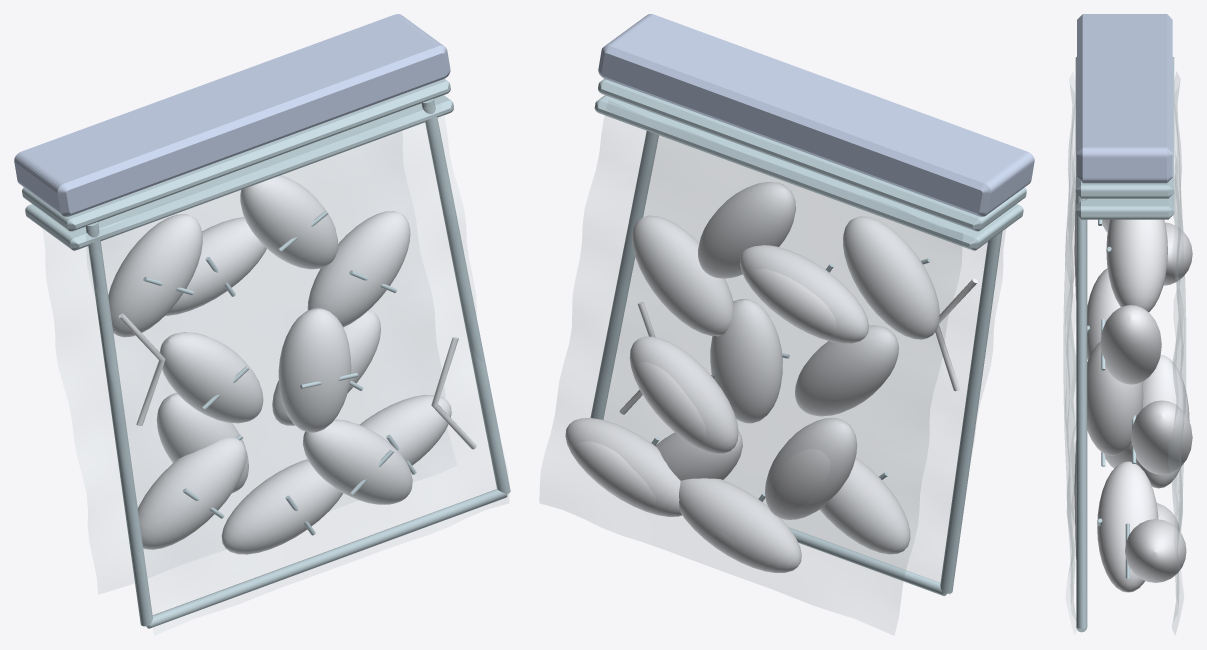
File: oral_steroids.glb
3 renders of one model, left to right at view 1: azimuth 30°, elevation 25°; view 2: azimuth 150°, elevation 25°; view 3: azimuth 270°, elevation 25°, orthographic. The views are drawn at different scales.
Size of the model in its own units: 23 by 25 by 5.86.
